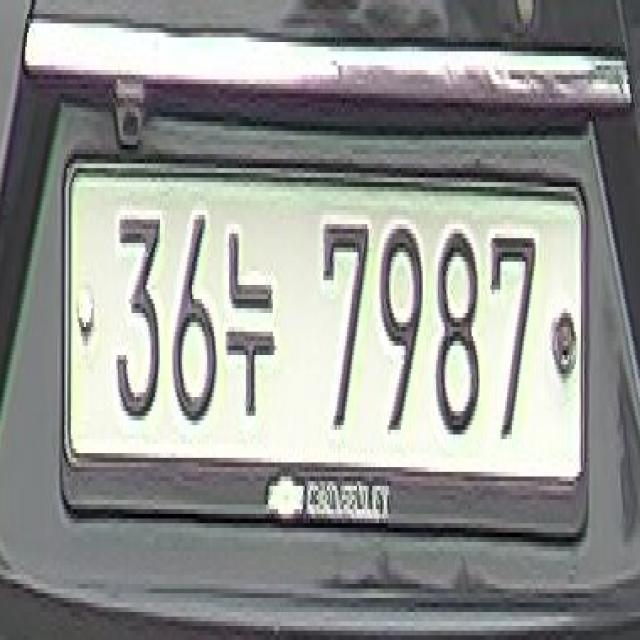3: (118, 206, 163, 425)
6: (170, 210, 217, 430)
7: (318, 215, 371, 420), (486, 225, 536, 434)
8: (431, 224, 482, 439)
9: (377, 220, 423, 443)
license_plate: (59, 150, 586, 495)
nu: (226, 229, 276, 420)
